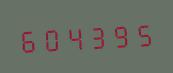five: (133, 17, 155, 49)
four: (64, 21, 86, 53)
nine: (110, 18, 132, 50)
six: (17, 23, 39, 55)
three: (87, 19, 109, 51)
zero: (40, 22, 62, 54)
